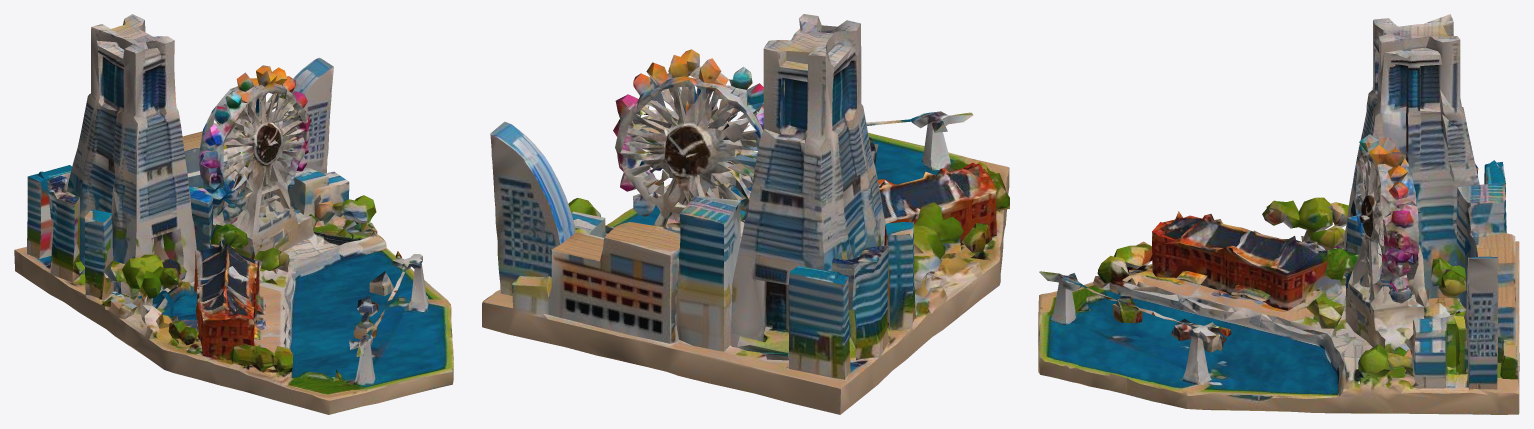
Rendered from yokohama-minatomirai.glb.
3 renders of one model, left to right at view 1: azimuth 30°, elevation 25°; view 2: azimuth 150°, elevation 25°; view 3: azimuth 270°, elevation 25°, orthographic. The views are drawn at different scales.
Visible parts, largest first — view 1: logan-textured.obj; view 2: logan-textured.obj; view 3: logan-textured.obj.
Boxes of the visible parts, <box> form: logan-textured.obj: <box>14,14,453,414</box>; logan-textured.obj: <box>482,14,1009,414</box>; logan-textured.obj: <box>1038,14,1519,414</box>.
Bounding box in the file's own units: 0.7553 × 0.627 × 1.
1 material, 1 textured.
